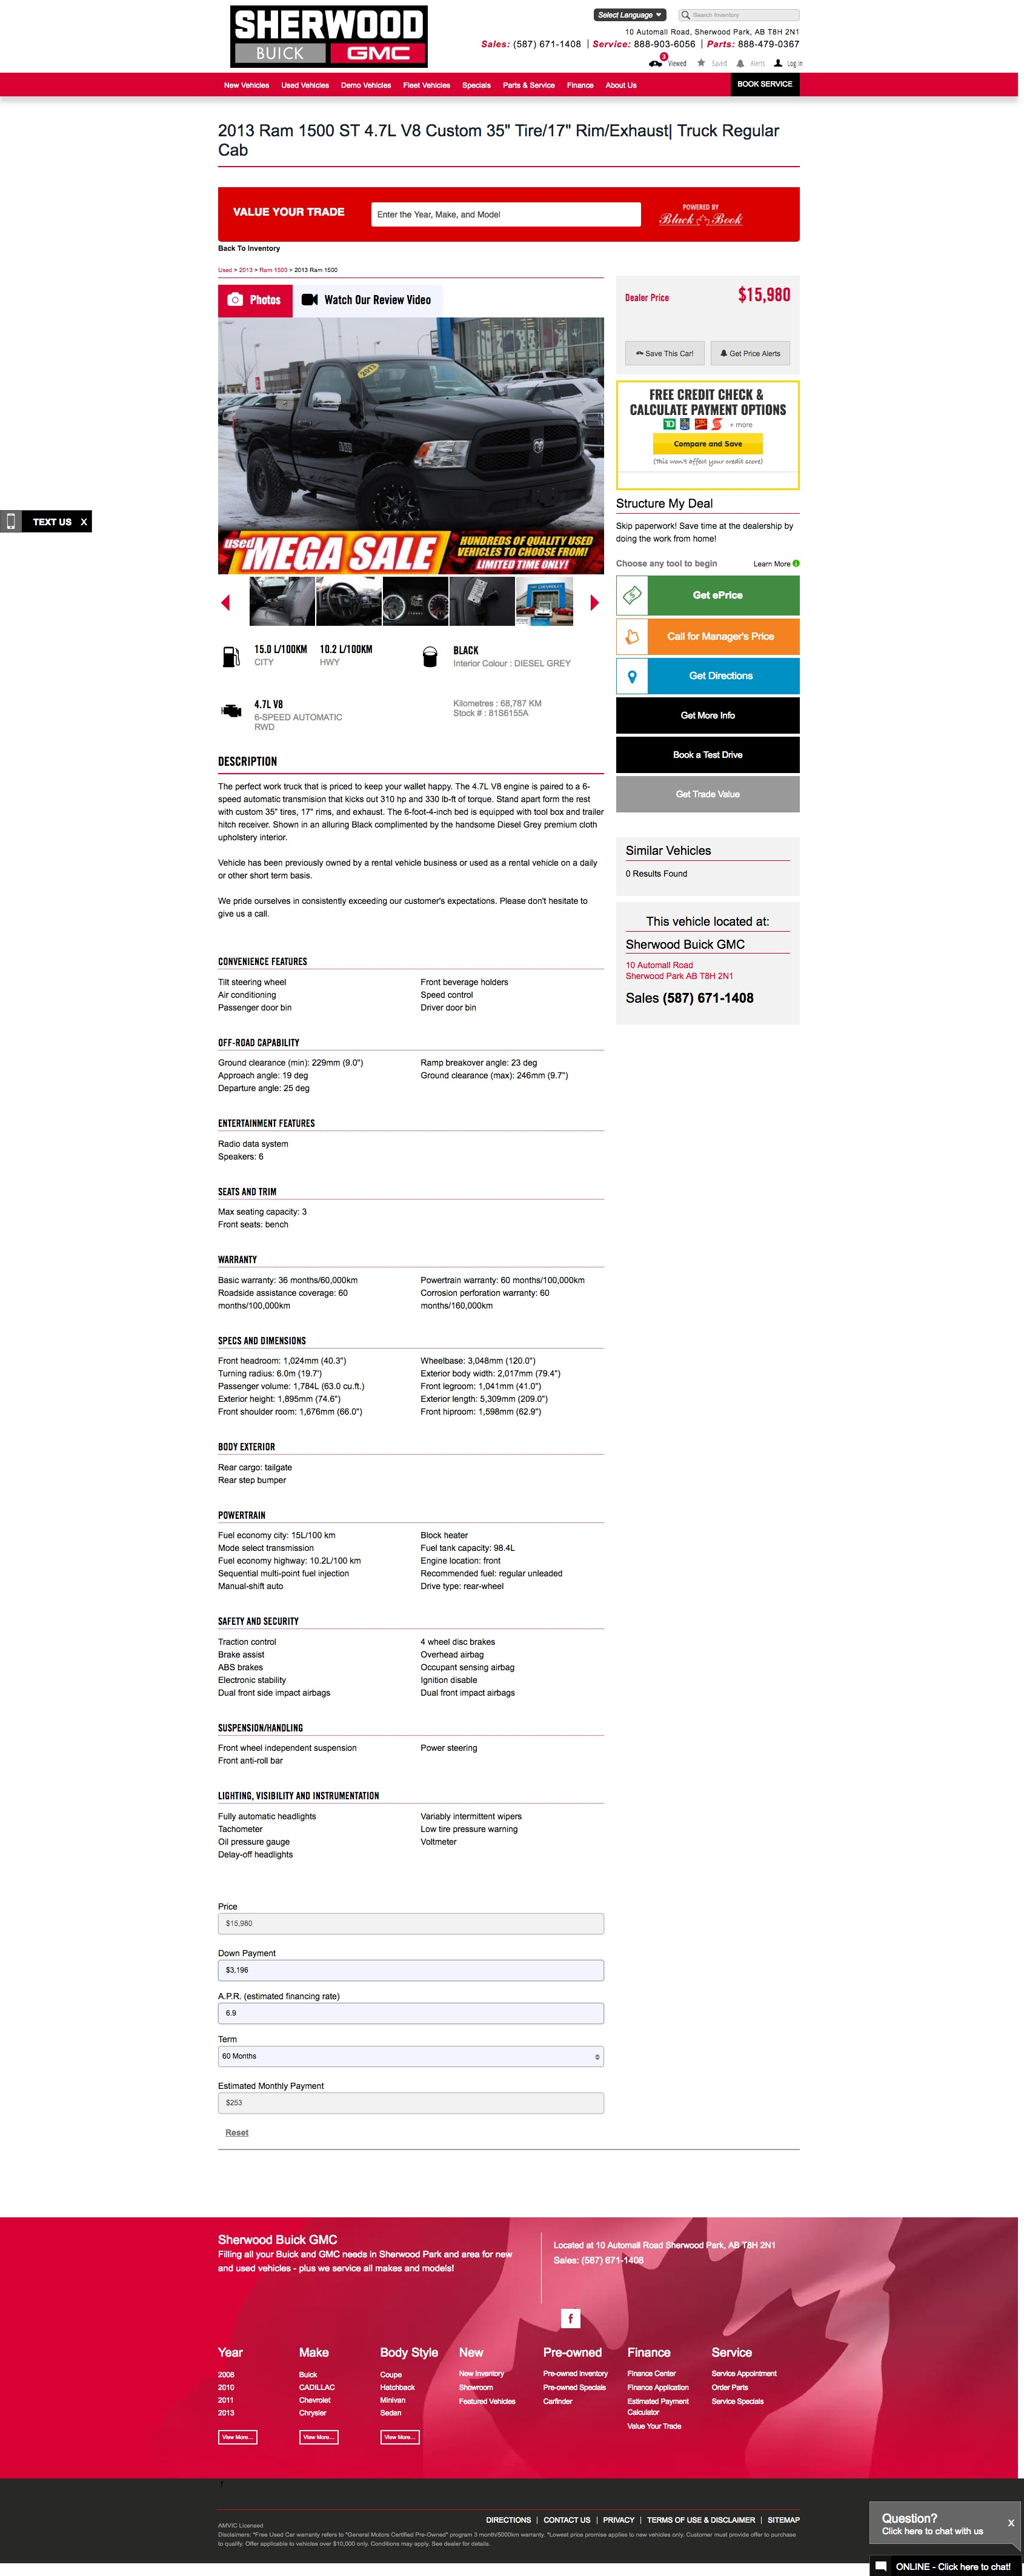car: (590, 595, 602, 613)
